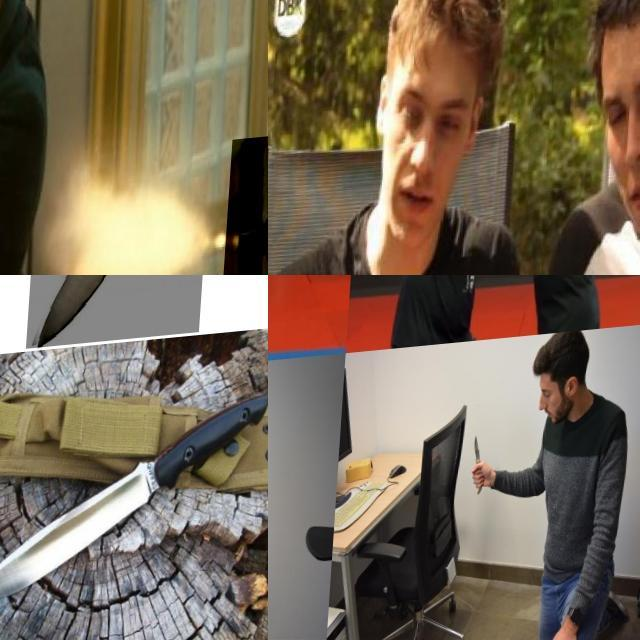-: (30, 275, 218, 421), (0, 453, 176, 606), (476, 442, 494, 504), (268, 524, 289, 562), (493, 275, 553, 286), (268, 275, 294, 298)
gun-knife-thesis - v11 Yolov5 augmented: (225, 134, 268, 275)
